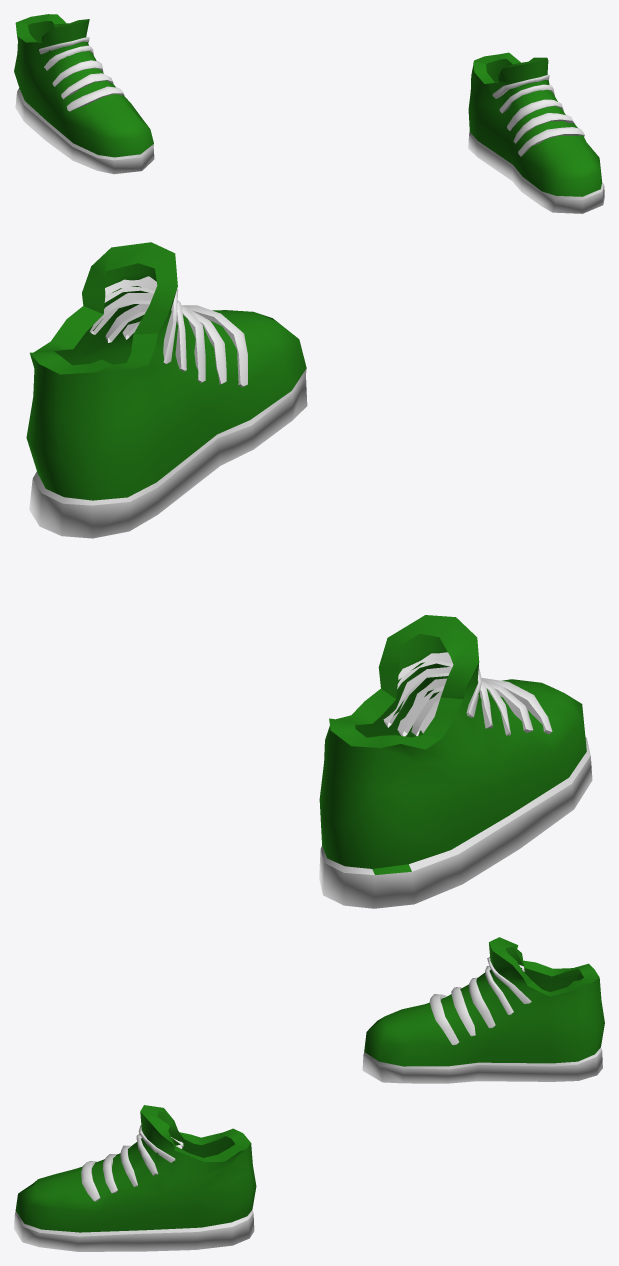
File: Green_Shoes.fbx
3 renders of one model, top to bottom at view 1: azimuth 30°, elevation 25°; view 2: azimuth 150°, elevation 25°; view 3: azimuth 270°, elevation 25°, orthographic. The views are drawn at different scales.
Parts seen in each view (by area): view 1: Green_Shoes; view 2: Green_Shoes; view 3: Green_Shoes.
Part boxes in pixels (box(x1,y1,x2,y2)): Green_Shoes: box(14, 14, 604, 213); Green_Shoes: box(26, 242, 592, 908); Green_Shoes: box(14, 937, 604, 1251).
Size of the model in its own units: 287 by 81.04 by 352.
